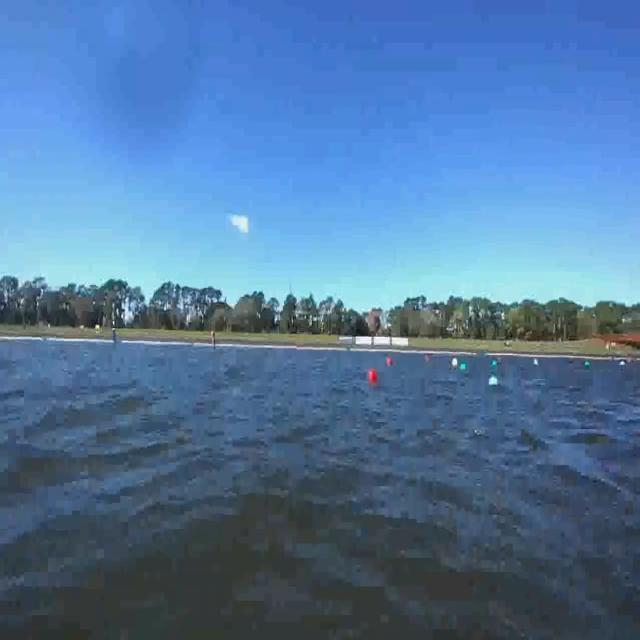green-buoy: (489, 375, 499, 387), (460, 362, 466, 371), (491, 358, 497, 366), (586, 361, 592, 367)
red-buoy: (368, 368, 377, 384), (387, 356, 393, 366), (424, 355, 432, 361)
yellow-buoy: (452, 358, 458, 366)
